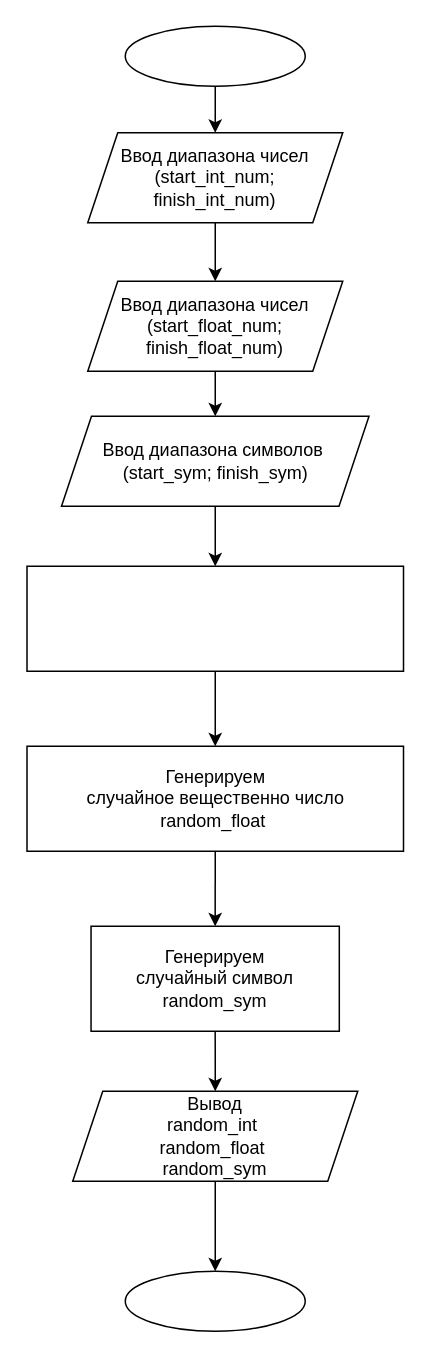
Image size: 429x1358. Some labels were removed from this diagram. The shapes that lost their labels are listed below. From the top down, each one's centre as x and y in pixels, then its label:
[214,55]: Начало
[215,618]: Генерируем случайное целое число random_int
[214,1300]: Конец
